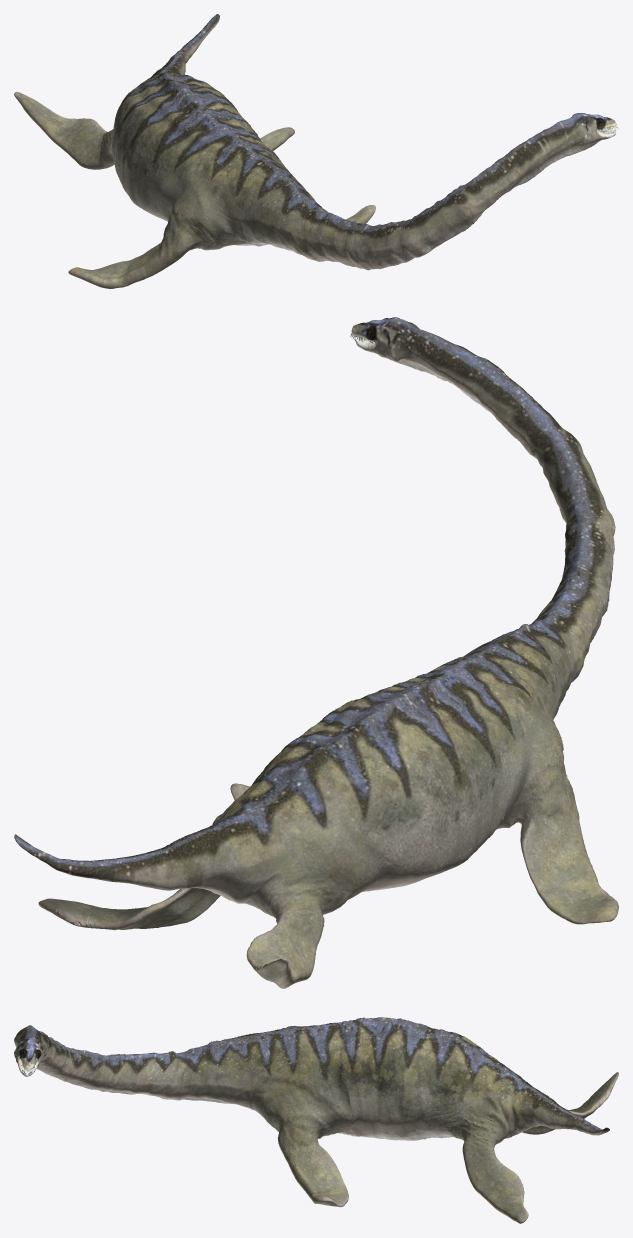
The picture shows the model from 3 angles, top to bottom: view 1: azimuth 30°, elevation 25°; view 2: azimuth 150°, elevation 25°; view 3: azimuth 270°, elevation 25°; orthographic projection. The views are drawn at different scales.
Parts seen in each view (by area): view 1: Object_2; view 2: Object_2; view 3: Object_2.
Boxes of the visible parts, x1,y1,x2,y2 form: Object_2: [14, 14, 618, 288]; Object_2: [14, 317, 618, 988]; Object_2: [14, 1017, 618, 1223].
Size of the model in its own units: 603 by 351 by 946.
1 material, 1 textured.
